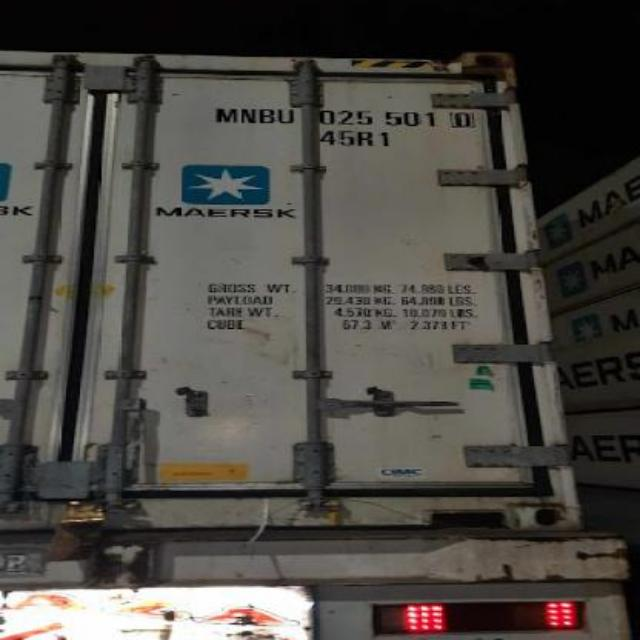0: (402, 110, 424, 126), (452, 112, 476, 125), (318, 110, 336, 124)
1: (424, 109, 440, 127)
2: (334, 109, 356, 125)
5: (356, 109, 374, 125), (384, 110, 402, 124)
B: (260, 108, 278, 122)
M: (214, 107, 240, 123)
N: (238, 107, 260, 125)
U: (276, 107, 298, 123)
